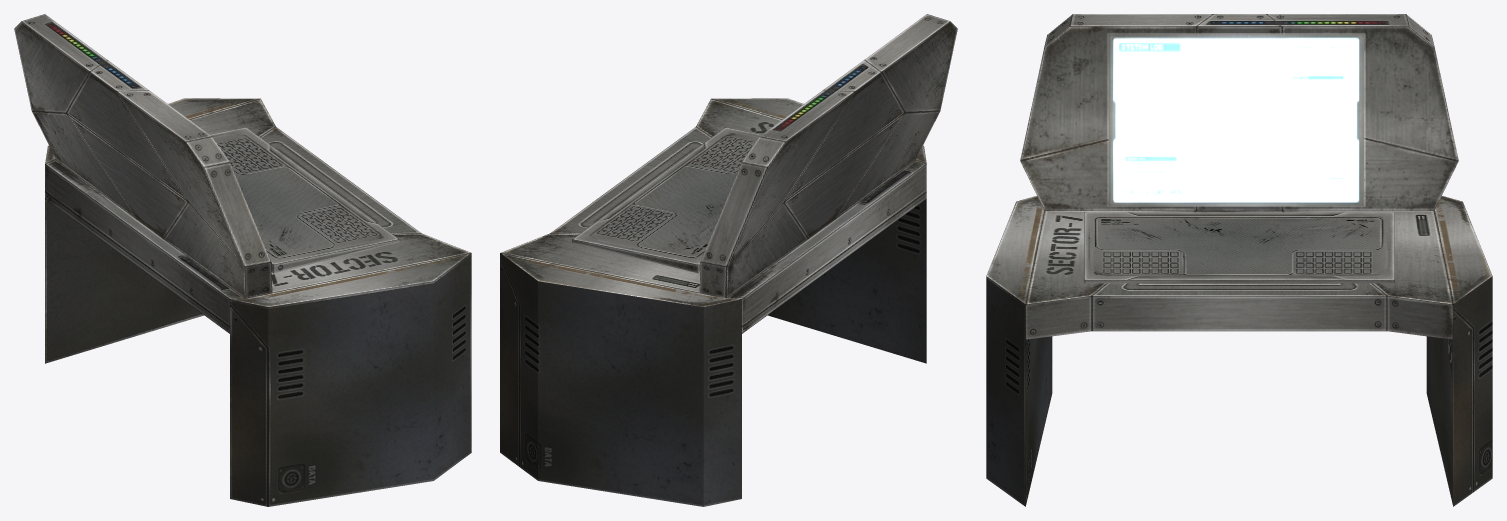
File: desk.glb
The picture shows the model from 3 angles, left to right: view 1: azimuth 30°, elevation 25°; view 2: azimuth 150°, elevation 25°; view 3: azimuth 270°, elevation 25°; orthographic projection.
Visible parts, largest first — view 1: Desk; view 2: Desk; view 3: Desk.
Boxes of the visible parts, <box> form: Desk: <box>14,14,471,506</box>; Desk: <box>500,14,957,506</box>; Desk: <box>986,14,1492,506</box>.
Bounding box in the file's own units: 1.38 × 1.79 × 2.27.
Materials: 1 (1 with a texture image).
